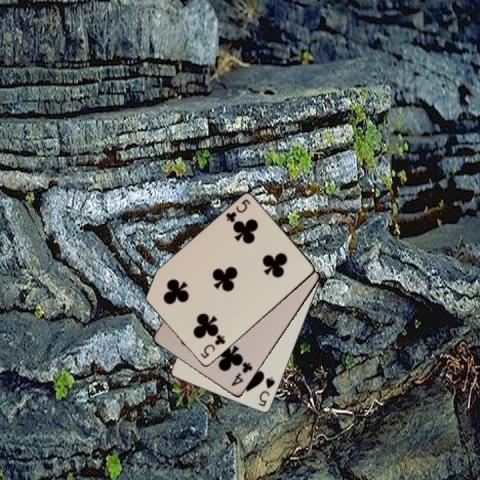4c: (229, 359, 254, 388)
5c: (197, 332, 227, 360), (223, 196, 252, 224)
5s: (256, 374, 277, 408)
